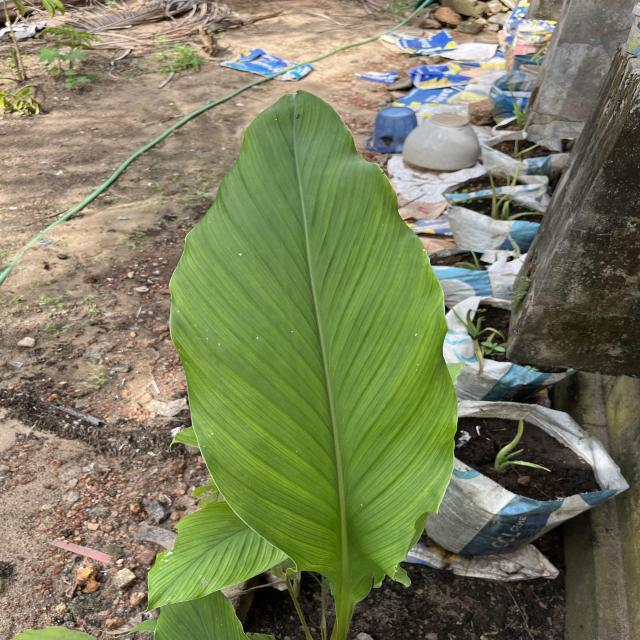Curcuma longa: (166, 84, 462, 612)
